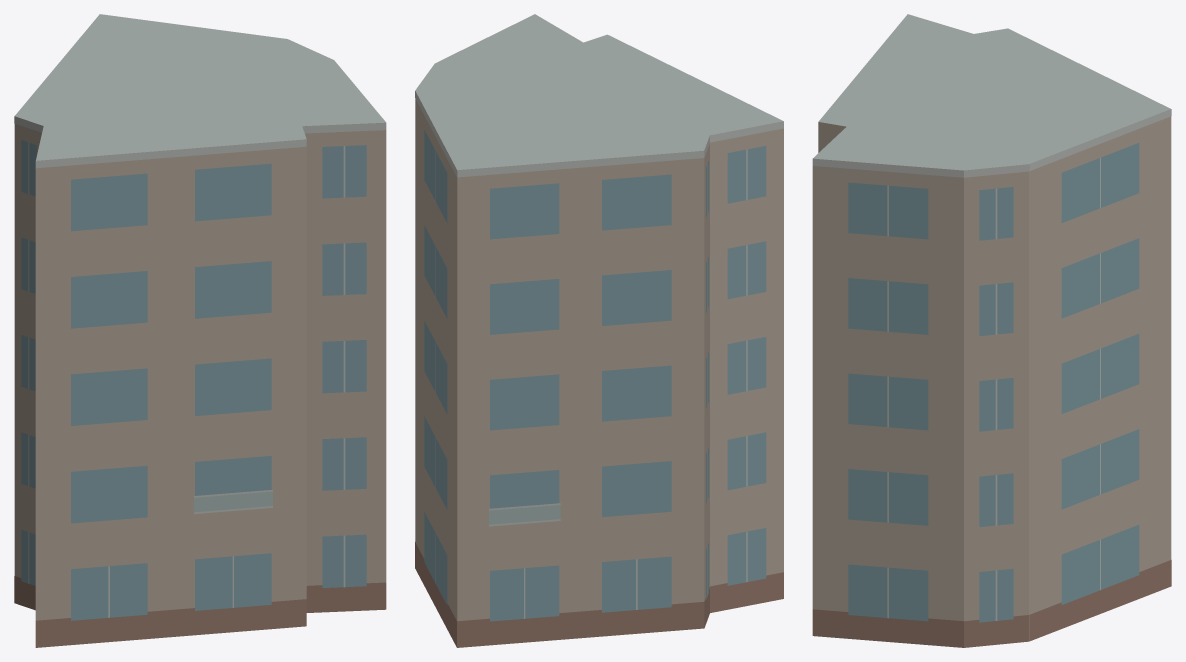
File: survey-upis-33030170.glb
The picture shows the model from 3 angles, left to right: view 1: azimuth 30°, elevation 25°; view 2: azimuth 150°, elevation 25°; view 3: azimuth 270°, elevation 25°; orthographic projection. The views are drawn at different scales.
Parts seen in each view (by area): view 1: survey-upis-33030170.tmp; view 2: survey-upis-33030170.tmp; view 3: survey-upis-33030170.tmp.
Part boxes in pixels (x1=…): survey-upis-33030170.tmp: x1=14, y1=14, x2=386, y2=647; survey-upis-33030170.tmp: x1=415, y1=14, x2=783, y2=647; survey-upis-33030170.tmp: x1=812, y1=14, x2=1171, y2=647.
Bounding box in the file's own units: 11.33 × 16.1 × 10.98.
